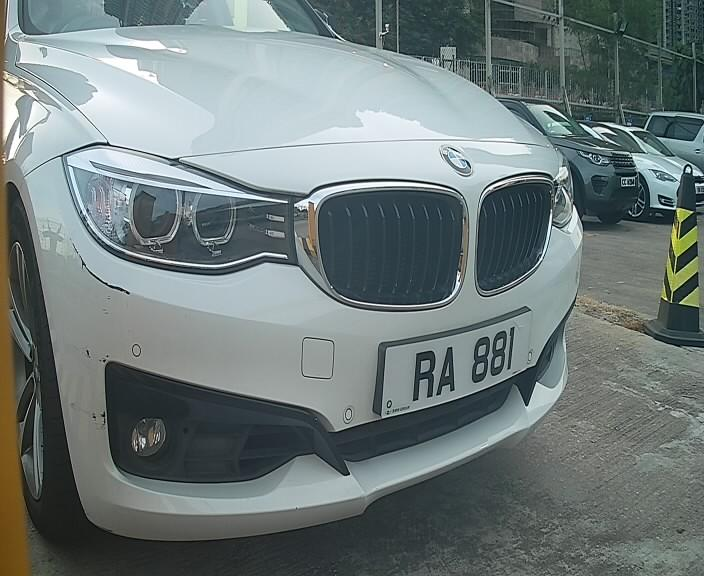License Plate: (362, 296, 553, 425)
